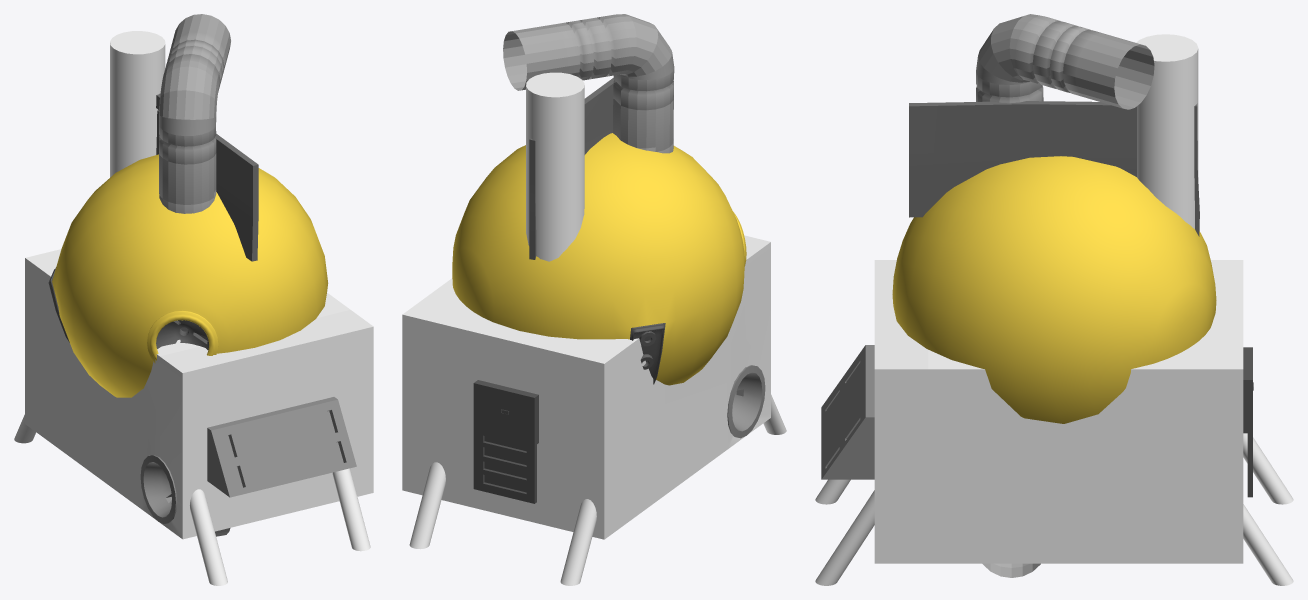
File: Machine_02.fbx
The picture shows the model from 3 angles, left to right: view 1: azimuth 30°, elevation 25°; view 2: azimuth 150°, elevation 25°; view 3: azimuth 270°, elevation 25°; orthographic projection. The views are drawn at different scales.
Visible parts, largest first — view 1: Base2, PowerSource, pipe, cpu; view 2: Base2, PowerSource, pipe, cpu; view 3: Base2, PowerSource, cpu, pipe.
Part boxes in pixels (x1,y1,x2,y2): Base2: [14, 31, 373, 585]; PowerSource: [48, 154, 328, 397]; pipe: [159, 14, 230, 536]; cpu: [156, 93, 258, 261]; Base2: [402, 72, 786, 585]; PowerSource: [452, 133, 746, 385]; pipe: [503, 14, 674, 153]; cpu: [529, 78, 613, 259]; Base2: [815, 34, 1293, 585]; PowerSource: [892, 156, 1216, 423]; cpu: [909, 101, 1199, 236]; pipe: [976, 14, 1154, 577].
Bounding box in the file's own units: 4.66 × 8.86 × 6.95.
